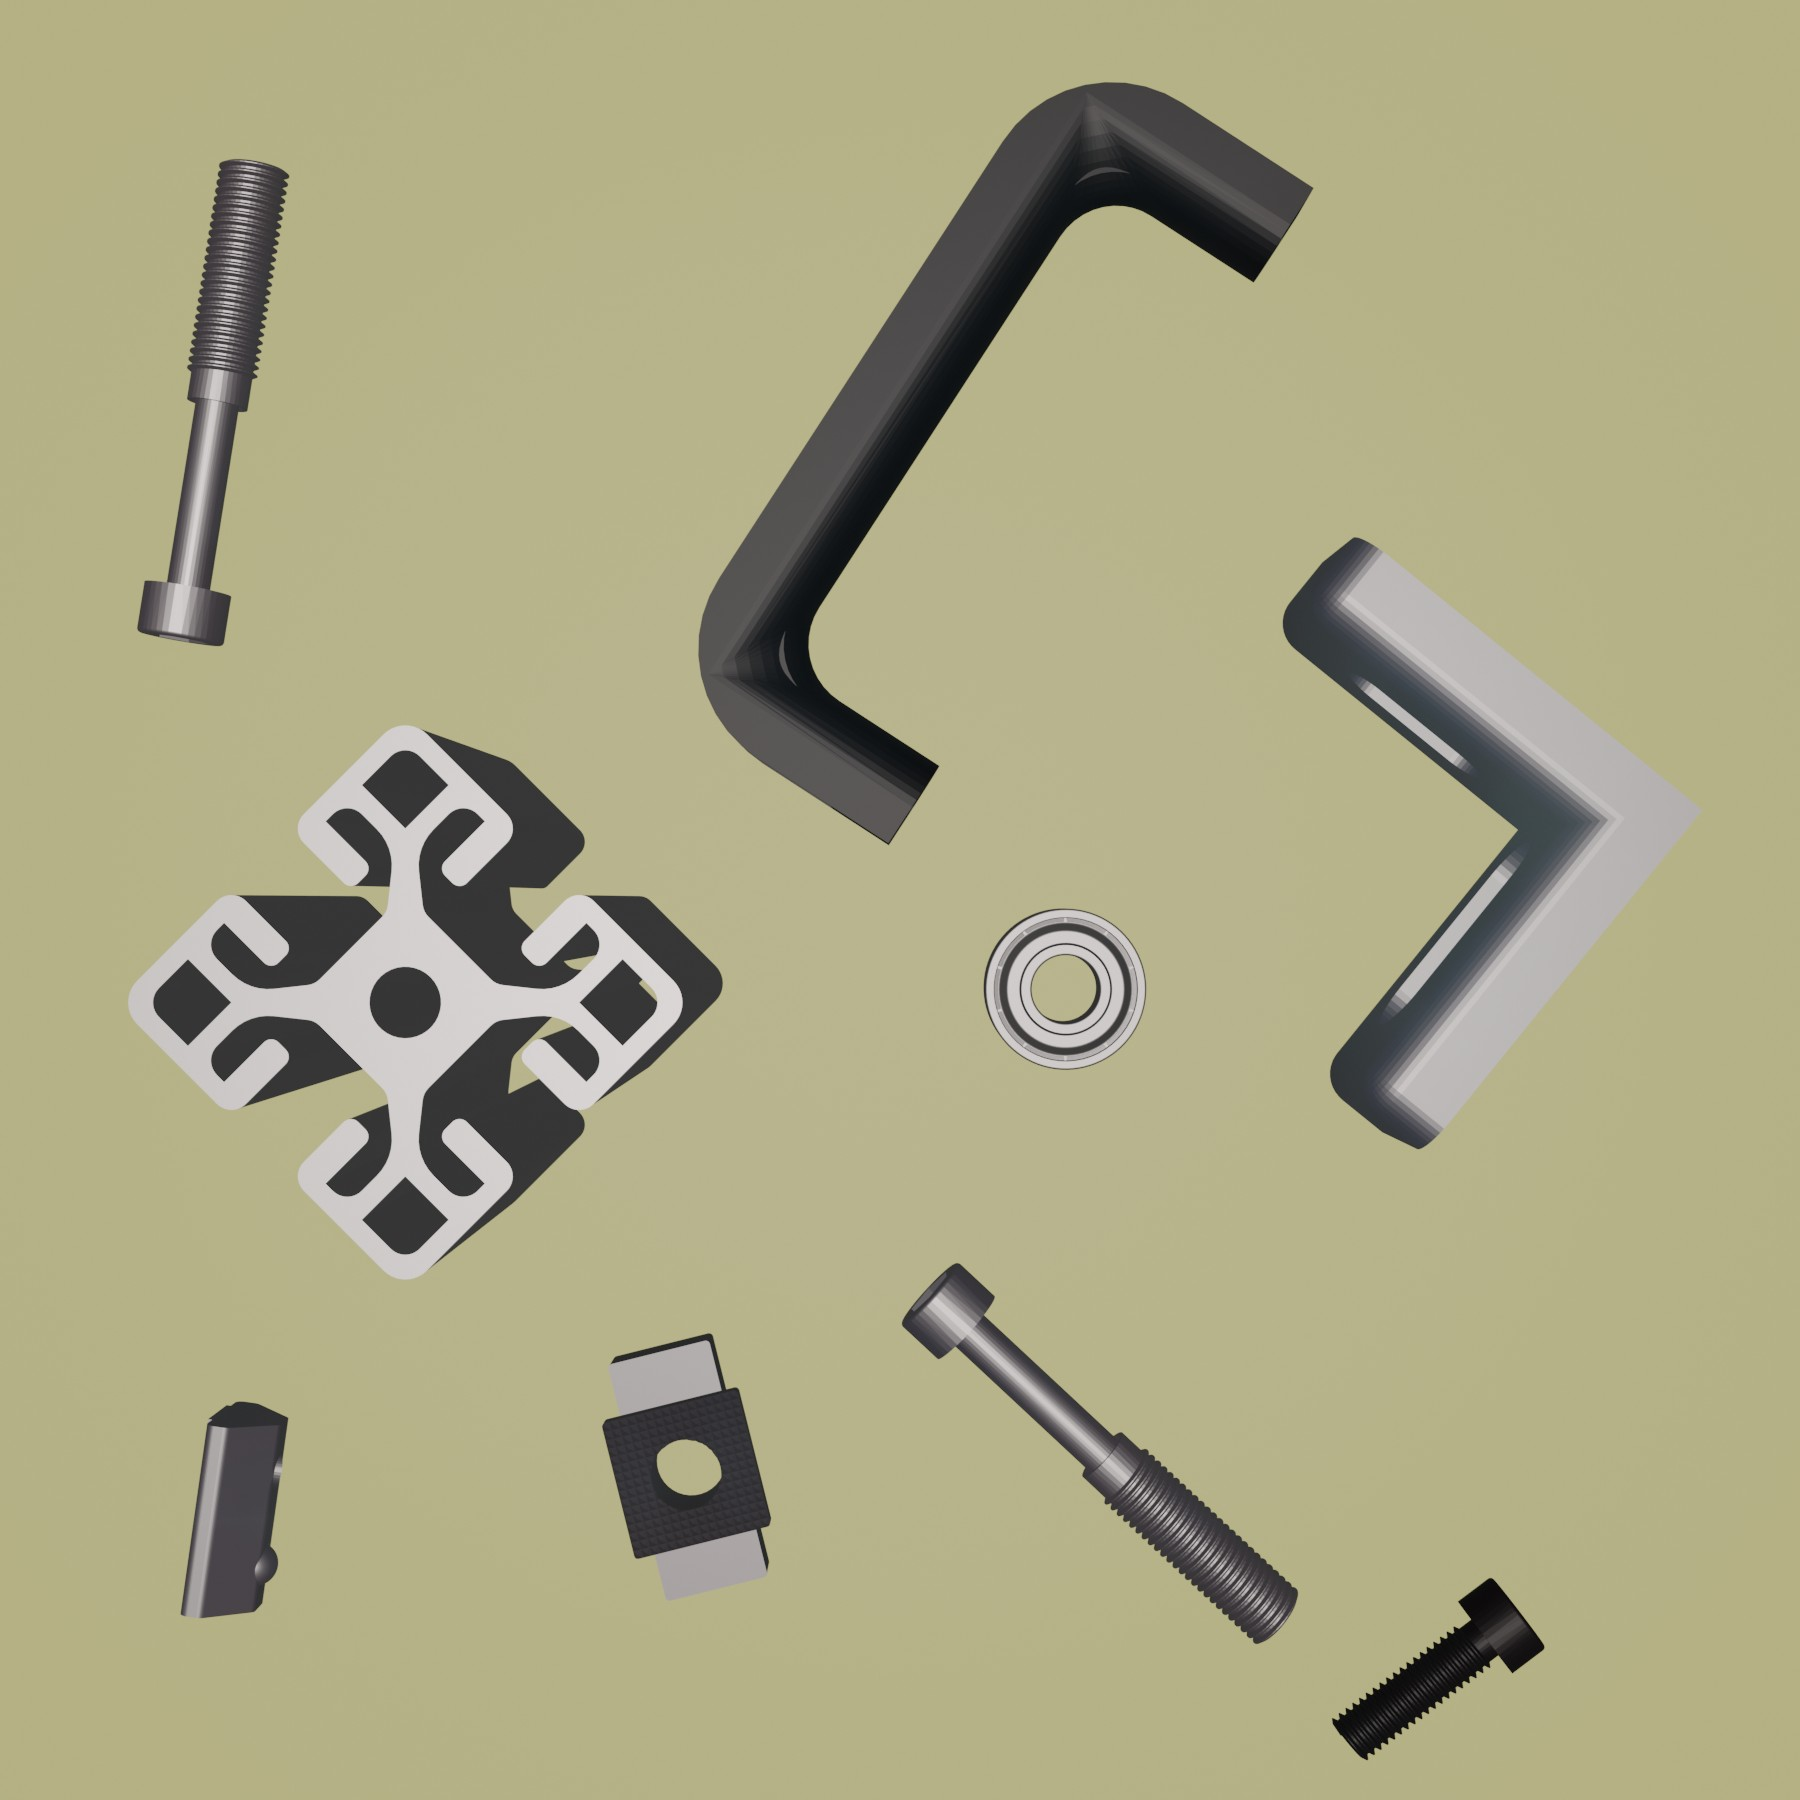Aluminium Extension: (125, 720, 725, 1284)
Ball Bearing: (979, 903, 1147, 1075)
Multiwinkel: (1279, 536, 1704, 1151)
Pull Handle: (697, 81, 1319, 849)
Shoulder Socket Head Cap Screw: (897, 1258, 1301, 1647), (134, 155, 293, 649)
Socket Head Cap Screw: (1327, 1573, 1549, 1765)
T Nut Square: (598, 1329, 775, 1602)
T Spring Nut: (175, 1398, 292, 1624)
